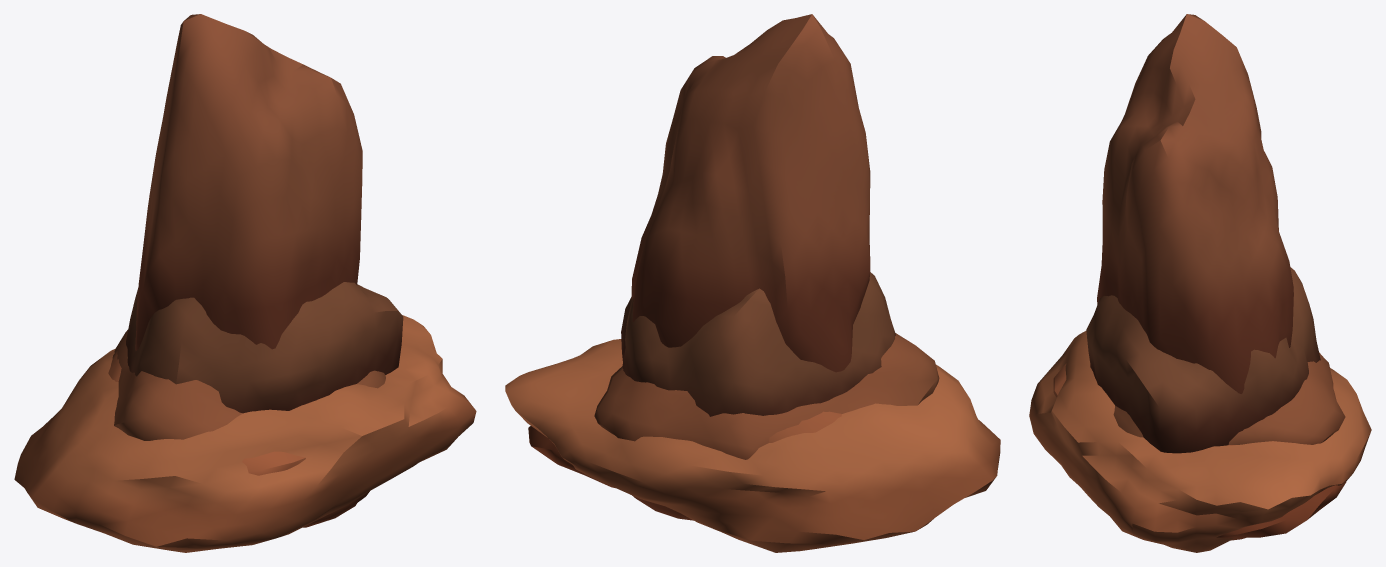
File: rocks.glb
The picture shows the model from 3 angles, left to right: view 1: azimuth 30°, elevation 25°; view 2: azimuth 150°, elevation 25°; view 3: azimuth 270°, elevation 25°; orthographic projection. The views are drawn at different scales.
Visible parts, largest first — view 1: Rock_4, Rock_3, Rock_2, Rock_0, Rock_1; view 2: Rock_4, Rock_3, Rock_2, Rock_0, Rock_1; view 3: Rock_4, Rock_3, Rock_2, Rock_0, Rock_1.
Part boxes in pixels (left/top/right/bottom): Rock_4: left=135, top=14, right=362, bottom=350; Rock_3: left=14, top=315, right=476, bottom=552; Rock_2: left=126, top=282, right=403, bottom=413; Rock_0: left=114, top=329, right=385, bottom=502; Rock_1: left=108, top=351, right=360, bottom=527; Rock_4: left=631, top=14, right=870, bottom=372; Rock_3: left=505, top=339, right=1000, bottom=552; Rock_2: left=621, top=272, right=895, bottom=416; Rock_0: left=594, top=333, right=939, bottom=520; Rock_1: left=528, top=411, right=841, bottom=488; Rock_4: left=1097, top=14, right=1293, bottom=393; Rock_3: left=1029, top=331, right=1371, bottom=552; Rock_2: left=1086, top=267, right=1320, bottom=453; Rock_0: left=1113, top=352, right=1345, bottom=444; Rock_1: left=1053, top=363, right=1346, bottom=540.
Size of the model in its own units: 1.46 by 1.69 by 1.07.
